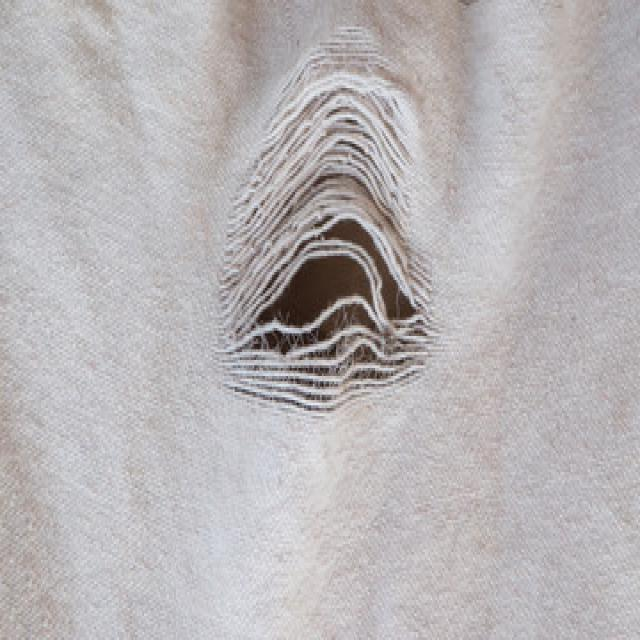Hole: (221, 26, 432, 417)
